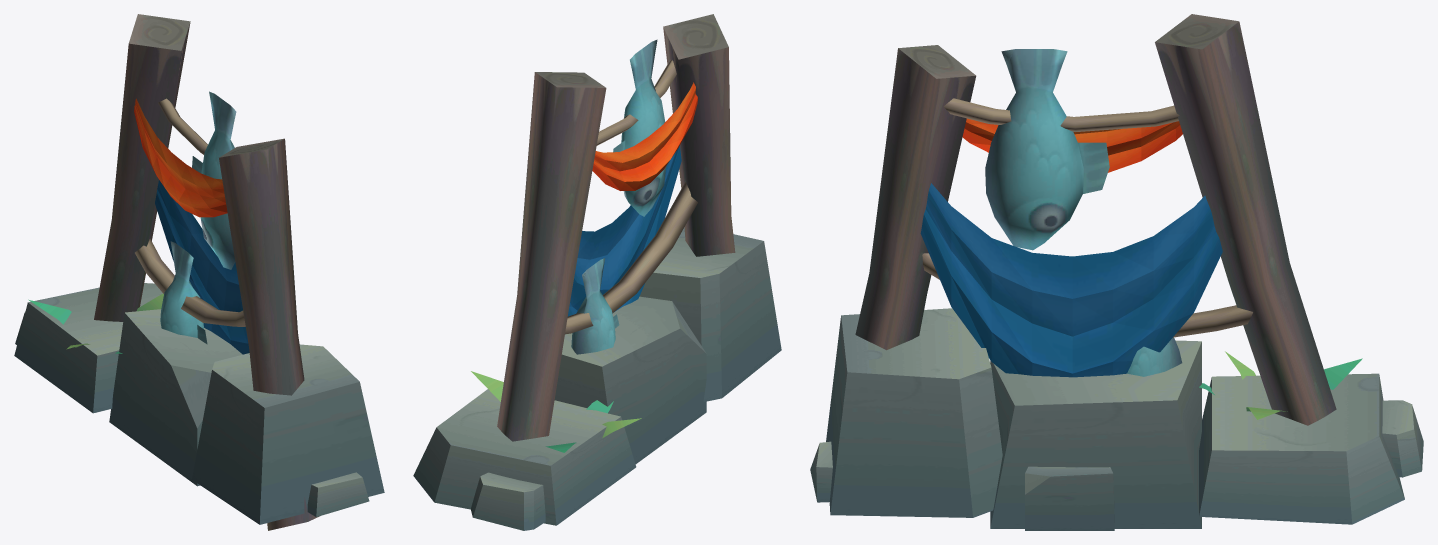
File: Wall1B-003_40_13_4692.fbx
3 renders of one model, left to right at view 1: azimuth 30°, elevation 25°; view 2: azimuth 150°, elevation 25°; view 3: azimuth 270°, elevation 25°, orthographic. The views are drawn at different scales.
Parts seen in each view (by area): view 1: Wall1, WallFence2, Cloth1 (2), Cloth1 (3); view 2: Wall1, WallFence2, Cloth1 (2), Cloth1 (3); view 3: Wall1, WallFence2, Cloth1 (2), Cloth1 (3).
Part boxes in pixels (left/top/right/bottom): Wall1: left=14, top=283, right=384, bottom=524; WallFence2: left=28, top=14, right=319, bottom=530; Cloth1 (2): left=155, top=180, right=249, bottom=354; Cloth1 (3): left=134, top=98, right=227, bottom=217; Wall1: left=413, top=227, right=781, bottom=530; WallFence2: left=471, top=14, right=735, bottom=452; Cloth1 (2): left=567, top=145, right=681, bottom=316; Cloth1 (3): left=592, top=82, right=697, bottom=190; Wall1: left=810, top=308, right=1423, bottom=530; WallFence2: left=855, top=14, right=1362, bottom=425; Cloth1 (2): left=920, top=183, right=1222, bottom=377; Cloth1 (3): left=962, top=118, right=1182, bottom=172.
Size of the model in its own units: 1.24 by 2.76 by 3.17.
